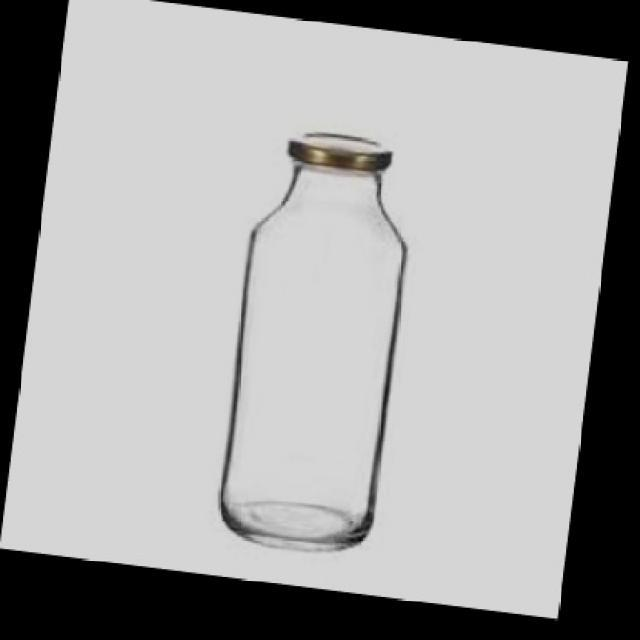Glass: (210, 122, 412, 570)
